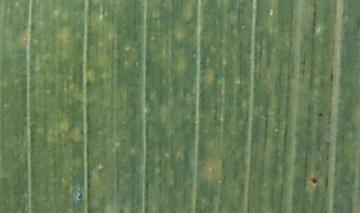tarspot: (310, 176, 317, 185), (317, 111, 324, 118)
